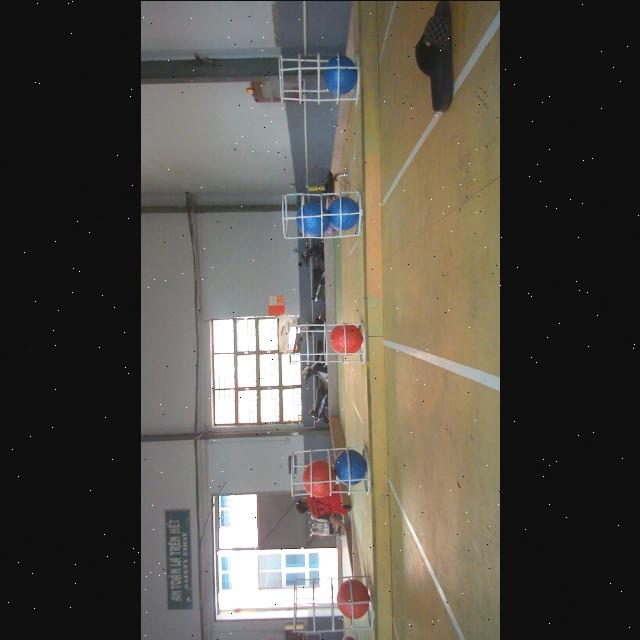B: (323, 56, 355, 94), (334, 450, 366, 484), (296, 202, 328, 236), (327, 197, 359, 230)
R: (336, 578, 368, 616), (302, 461, 334, 497), (329, 322, 363, 354)
